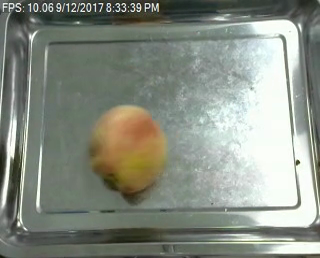Peach: (89, 103, 166, 195)
